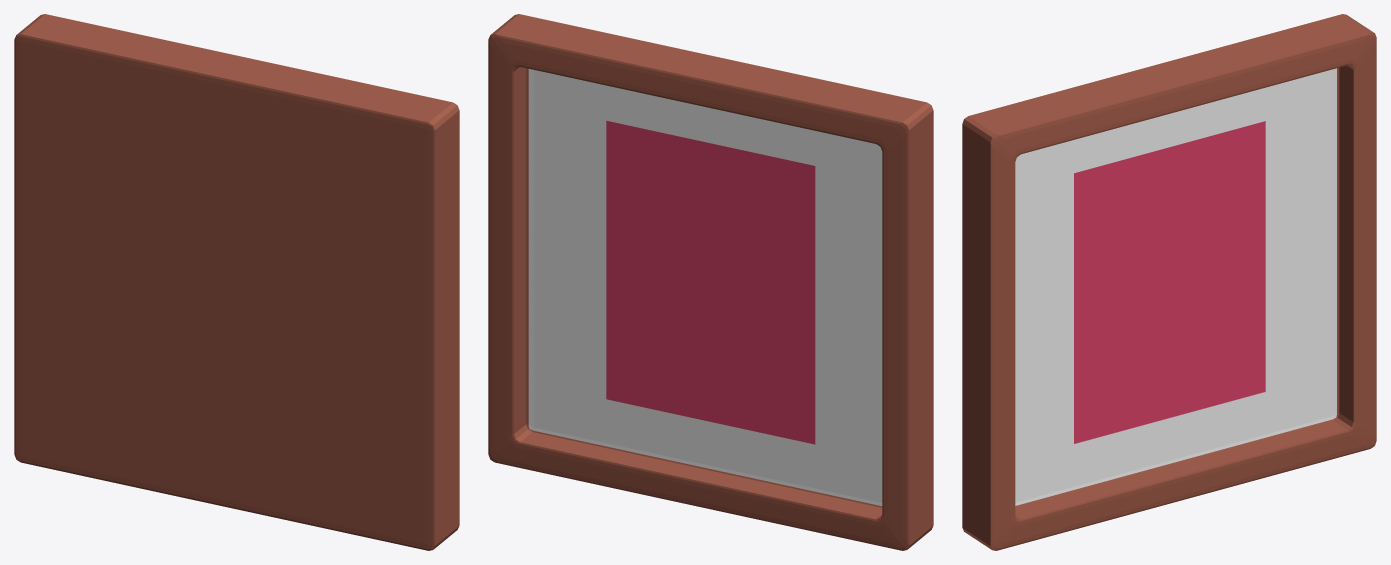
Rendered from tablo2.fbx.
3 renders of one model, left to right at view 1: azimuth 30°, elevation 25°; view 2: azimuth 210°, elevation 25°; view 3: azimuth 270°, elevation 25°, orthographic. The views are drawn at different scales.
Parts seen in each view (by area): view 1: Cube.041; view 2: Cube.041; view 3: Cube.041.
Boxes of the visible parts, <box> form: Cube.041: <box>14,14,459,550</box>; Cube.041: <box>488,14,933,550</box>; Cube.041: <box>962,14,1376,550</box>.
Size of the model in its own units: 448 by 702 by 633.
